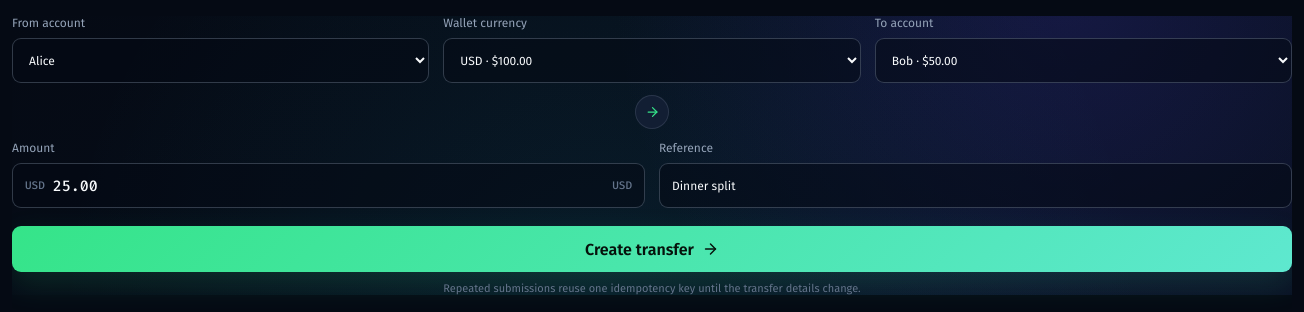
TransferForm › repairs the destination when the selected source currency changes
Select "EUR · €75.00" in the dropdown labelled "Wallet currency". click: x=652, y=60
box: [443,38,861,83]
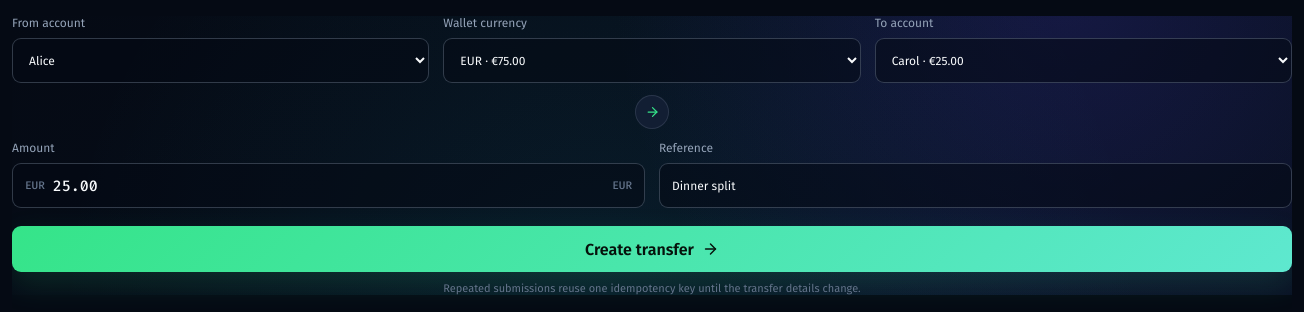
Expected: the option "Bob" is not shown
Expected: the dropdown labelled "To account" shows "Carol · €25.00", [875,38,1292,83]
Expected: the 2nd text "EUR" is shown, [612,178,632,193]
